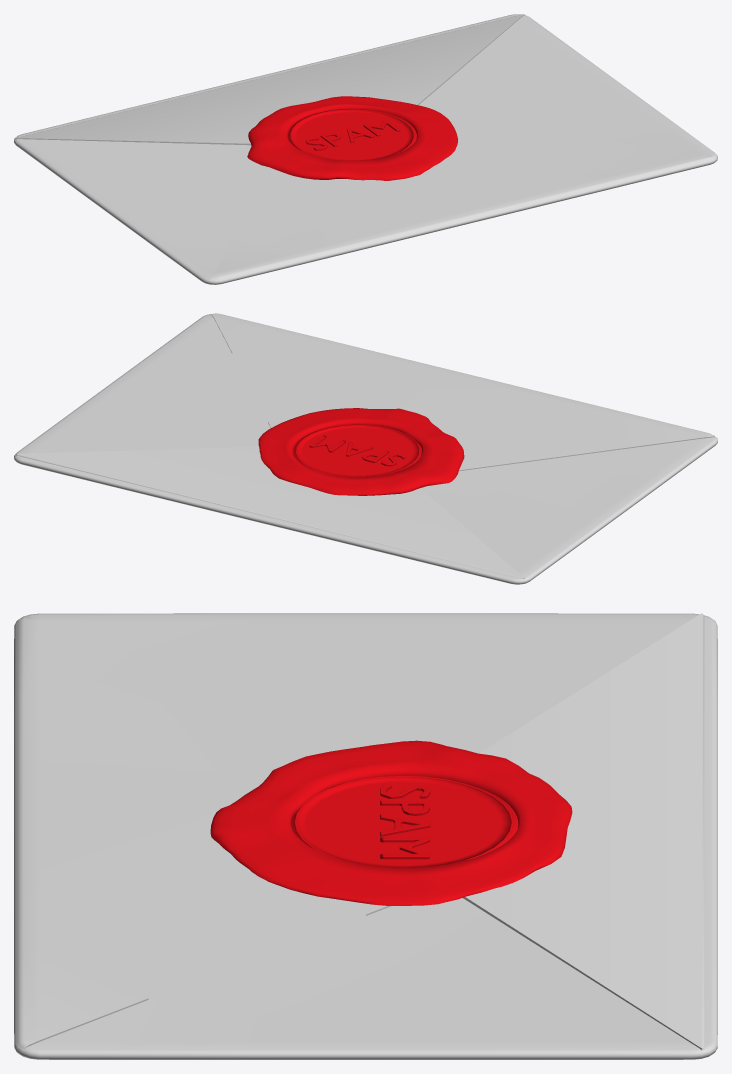
Rendered from FINAL_ENVELOPE.fbx.
3 views of the same model, one above another, from view 1: azimuth 30°, elevation 25°; view 2: azimuth 150°, elevation 25°; view 3: azimuth 270°, elevation 25° (orthographic). The views are drawn at different scales.
Parts seen in each view (by area): view 1: envelope, stamp, Cylinder.002, Text; view 2: envelope, stamp, Cylinder.002, Text; view 3: envelope, stamp, Cylinder.002, Text.
Boxes of the visible parts, <box> form: envelope: <box>14,14,717,284</box>; stamp: <box>247,96,457,180</box>; Cylinder.002: <box>288,108,416,160</box>; Text: <box>305,119,400,150</box>; envelope: <box>14,313,717,584</box>; stamp: <box>258,408,464,495</box>; Cylinder.002: <box>293,424,421,476</box>; Text: <box>309,435,405,466</box>; envelope: <box>14,613,717,1059</box>; stamp: <box>210,740,572,905</box>; Cylinder.002: <box>291,775,518,867</box>; Text: <box>380,785,430,859</box>.
Bounding box in the file's own units: 30.25 × 0.7137 × 20.41.
